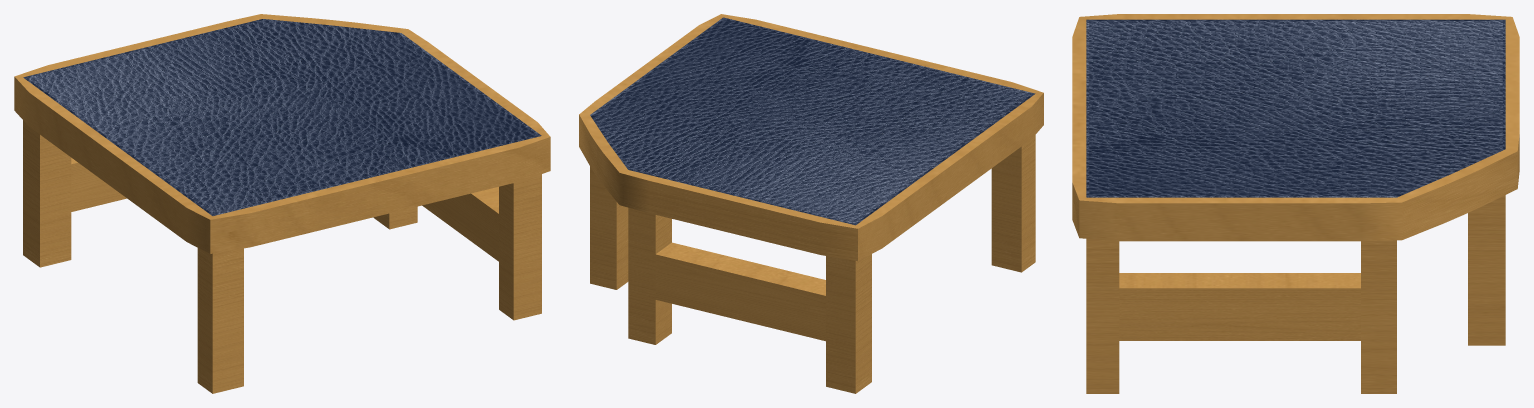
Rendered from corner_table.fbx.
The picture shows the model from 3 angles, left to right: view 1: azimuth 30°, elevation 25°; view 2: azimuth 150°, elevation 25°; view 3: azimuth 270°, elevation 25°; orthographic projection. The views are drawn at different scales.
Visible parts, largest first — view 1: pCube1; view 2: pCube1; view 3: pCube1.
Boxes of the visible parts, x1,y1,x2,y2 form: pCube1: (14, 14, 550, 393); pCube1: (579, 14, 1043, 393); pCube1: (1072, 14, 1519, 393).
Size of the model in its own units: 1.63 by 0.7864 by 1.62.
Materials: 2 (2 with a texture image).
